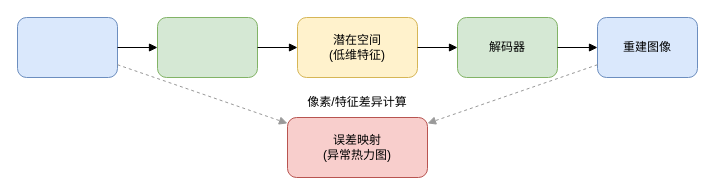
The diagram is 715 pixels wide and 195 high, and some of its shapes have lost their labels. Here are the shapes that lost their labels. From the top down, the centre of each, then its label:
pixel 67 47: 输入图像
pixel 207 47: 编码器
